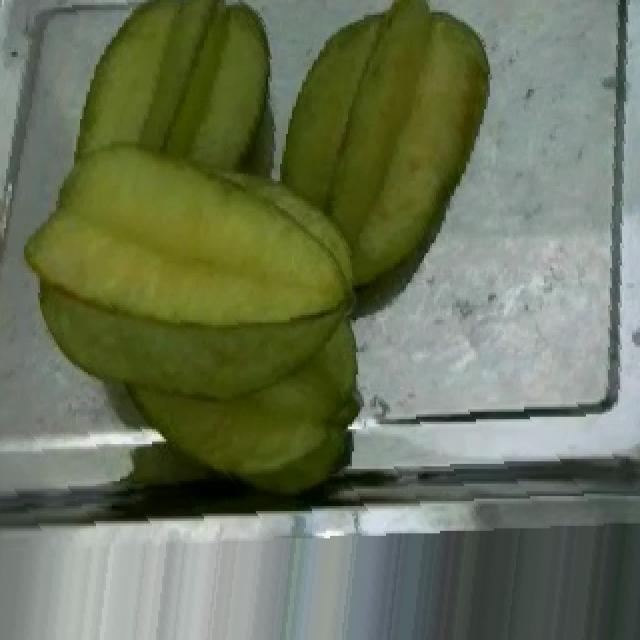fruit: (10, 119, 384, 486), (258, 0, 506, 315), (58, 0, 284, 184)
